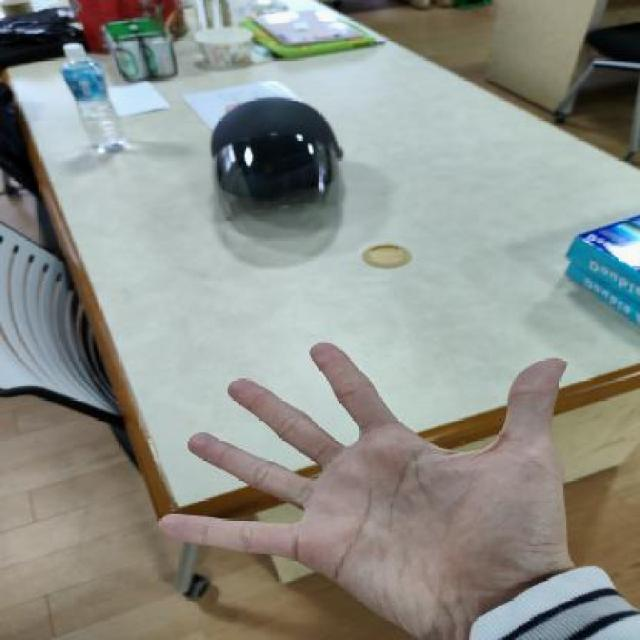no_glove: (142, 318, 601, 631)
